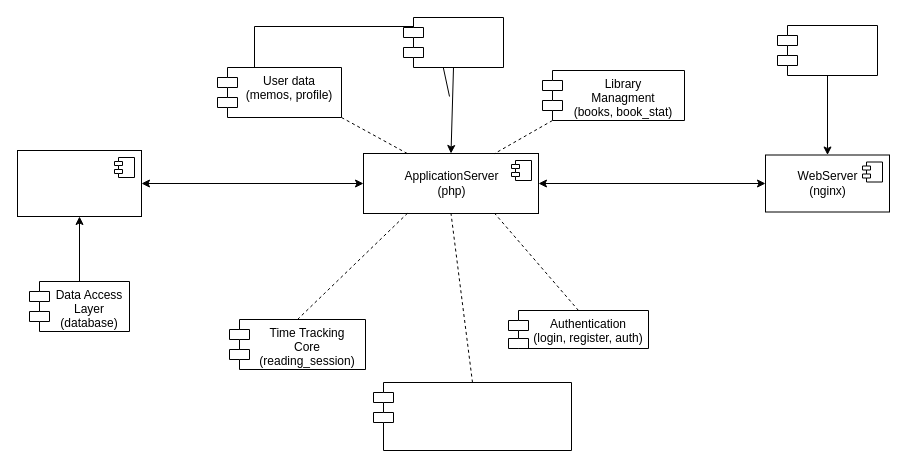
This 907x468 diagram has some shape labels left out. Each missing label, with the centre of its shape:
Analytics & Reporting (statistics, achievements): pixel 472 416
DataBase Service (MySQL): pixel 79 183
nginx.conf: pixel 827 50
Presentation (Includes): pixel 453 42
